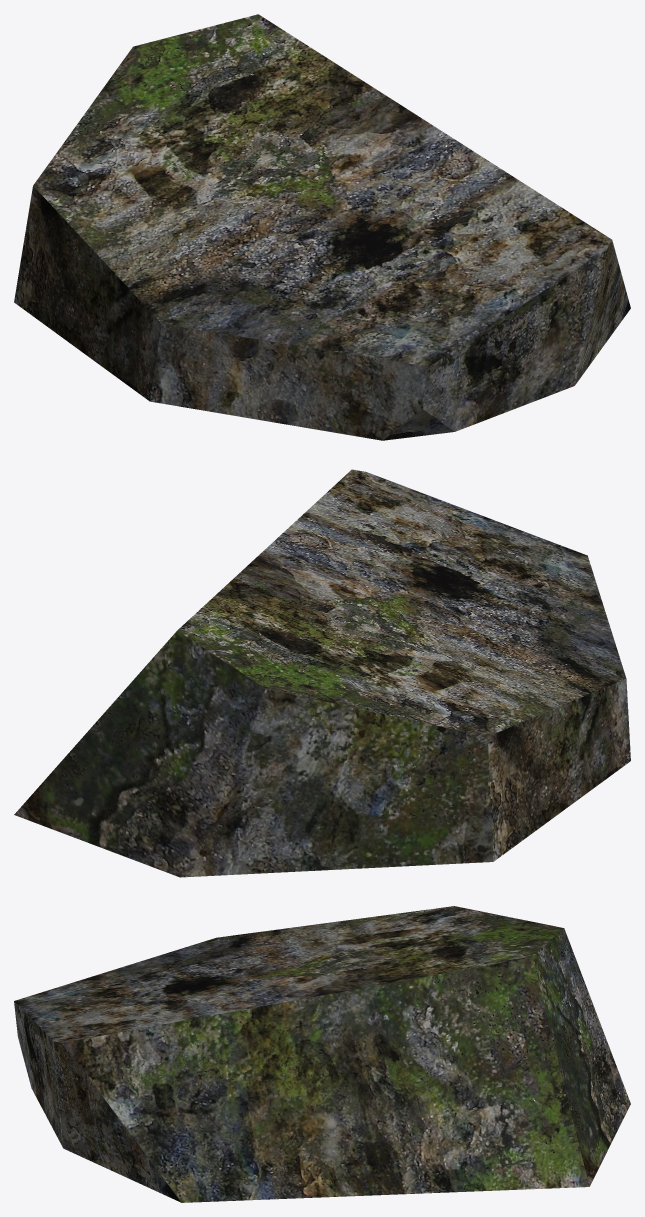
The model's file is Stone2.2.obj.
3 renders of one model, top to bottom at view 1: azimuth 30°, elevation 25°; view 2: azimuth 150°, elevation 25°; view 3: azimuth 270°, elevation 25°, orthographic. The views are drawn at different scales.
Parts seen in each view (by area): view 1: Stone2.2_Cube.003; view 2: Stone2.2_Cube.003; view 3: Stone2.2_Cube.003.
Part boxes in pixels (x1=…): Stone2.2_Cube.003: x1=14, y1=14, x2=630, y2=440; Stone2.2_Cube.003: x1=14, y1=469, x2=630, y2=877; Stone2.2_Cube.003: x1=14, y1=906, x2=630, y2=1202.
Size of the model in its own units: 1.27 by 0.5142 by 1.67.
Materials: 1 (1 with a texture image).
